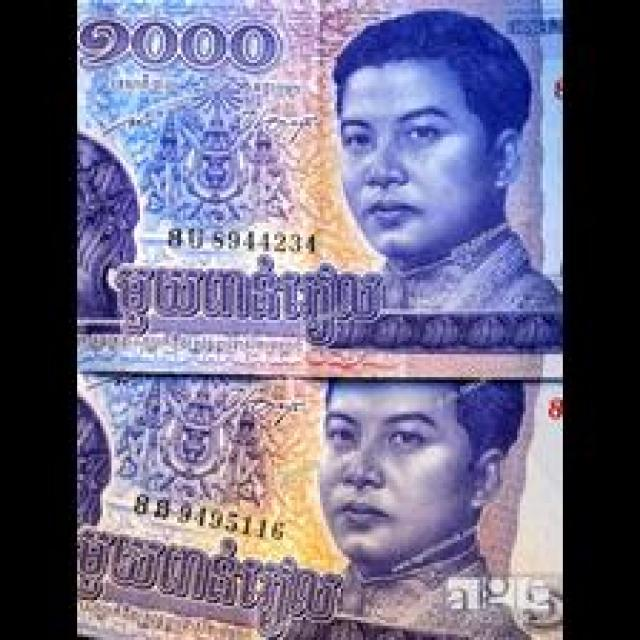banknote: (81, 0, 563, 379), (79, 379, 562, 639)
